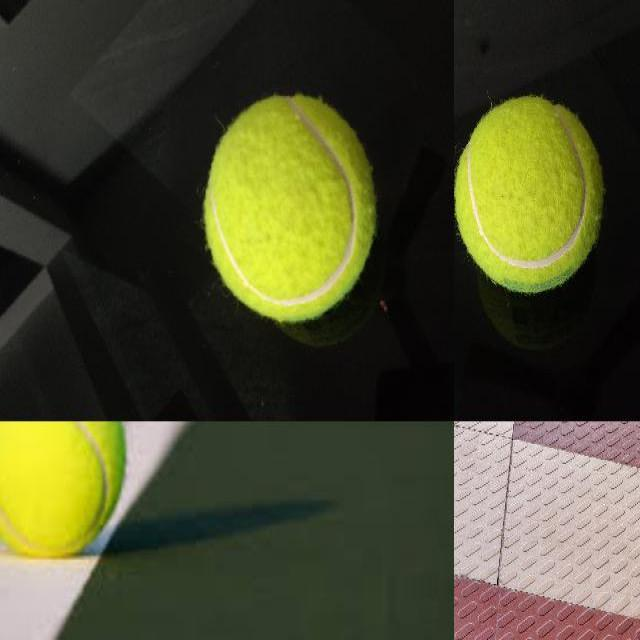tennis-ball: (204, 95, 377, 321), (455, 95, 604, 293), (0, 421, 128, 563)
